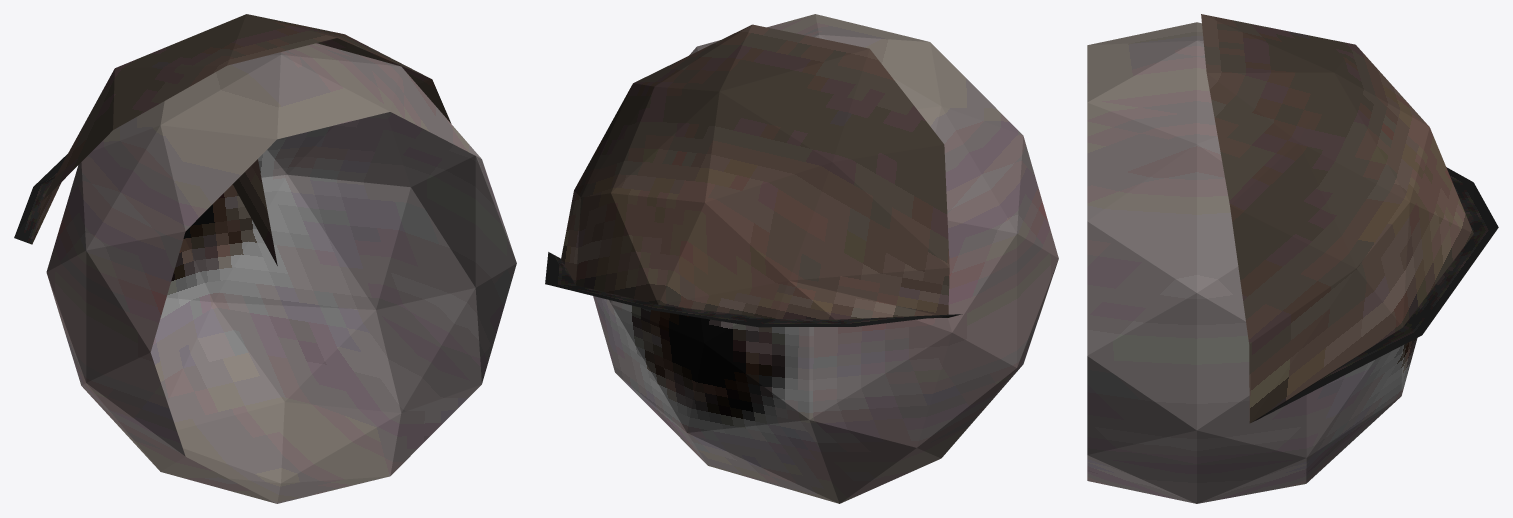
File: recovered_gear_right_eye_4d36c6917395.glb
The picture shows the model from 3 angles, left to right: view 1: azimuth 30°, elevation 25°; view 2: azimuth 150°, elevation 25°; view 3: azimuth 270°, elevation 25°; orthographic projection. The views are drawn at different scales.
Visible parts, largest first — view 1: right_eye; view 2: right_eye; view 3: right_eye.
Boxes of the visible parts, x1=… form: right_eye: x1=14, y1=14, x2=516, y2=503; right_eye: x1=545, y1=14, x2=1058, y2=503; right_eye: x1=1087, y1=14, x2=1498, y2=503.
Size of the model in its own units: 0.0312 by 0.029 by 0.0243.
2 materials, 2 textured.
